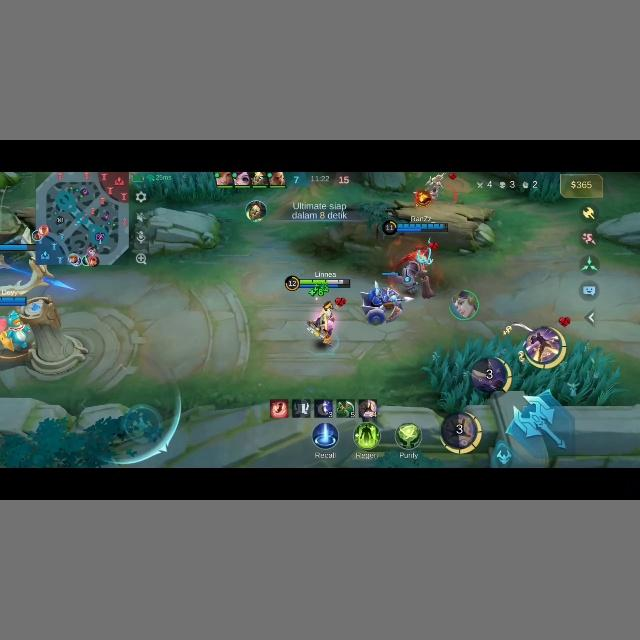hp_self: (394, 222, 446, 229), (0, 243, 35, 250), (0, 296, 25, 304)
minion_ally: (361, 282, 409, 326)
minion_enemy: (416, 174, 441, 204)
